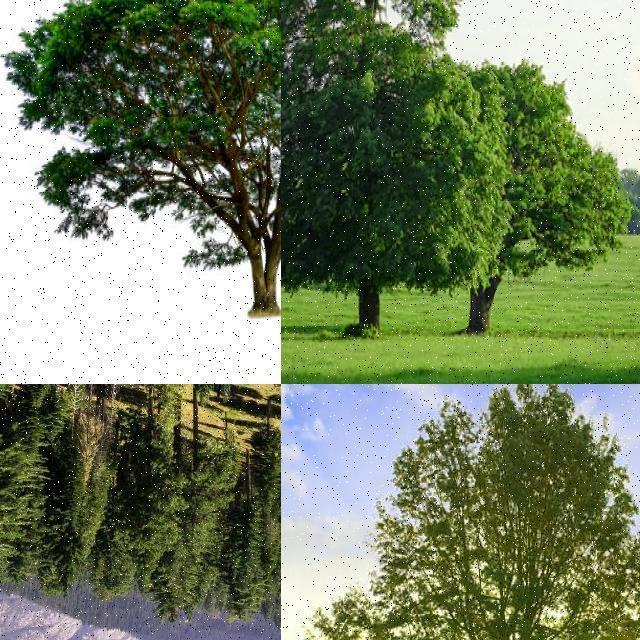tree: (5, 0, 281, 308), (280, 1, 508, 360), (346, 384, 640, 640), (457, 58, 627, 332), (110, 384, 194, 548), (180, 384, 272, 530), (50, 415, 119, 597), (0, 431, 60, 582), (179, 434, 239, 562), (218, 509, 262, 623), (29, 384, 93, 446), (0, 384, 48, 461), (120, 384, 172, 436), (249, 426, 281, 509), (0, 384, 20, 496), (25, 384, 61, 416), (59, 384, 90, 416), (0, 384, 20, 426), (0, 384, 20, 424)
